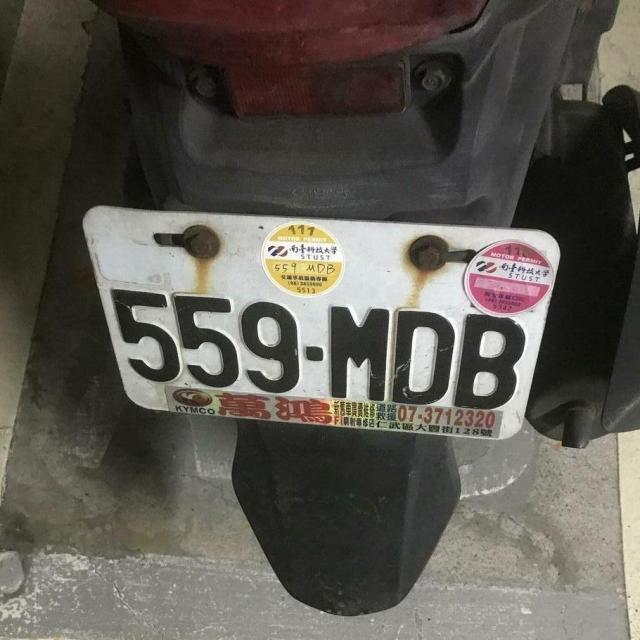W: (76, 202, 554, 452)
